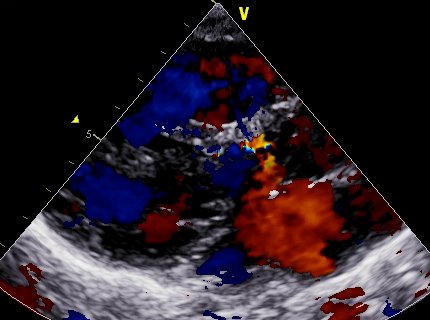AR: (213, 127, 313, 204)
